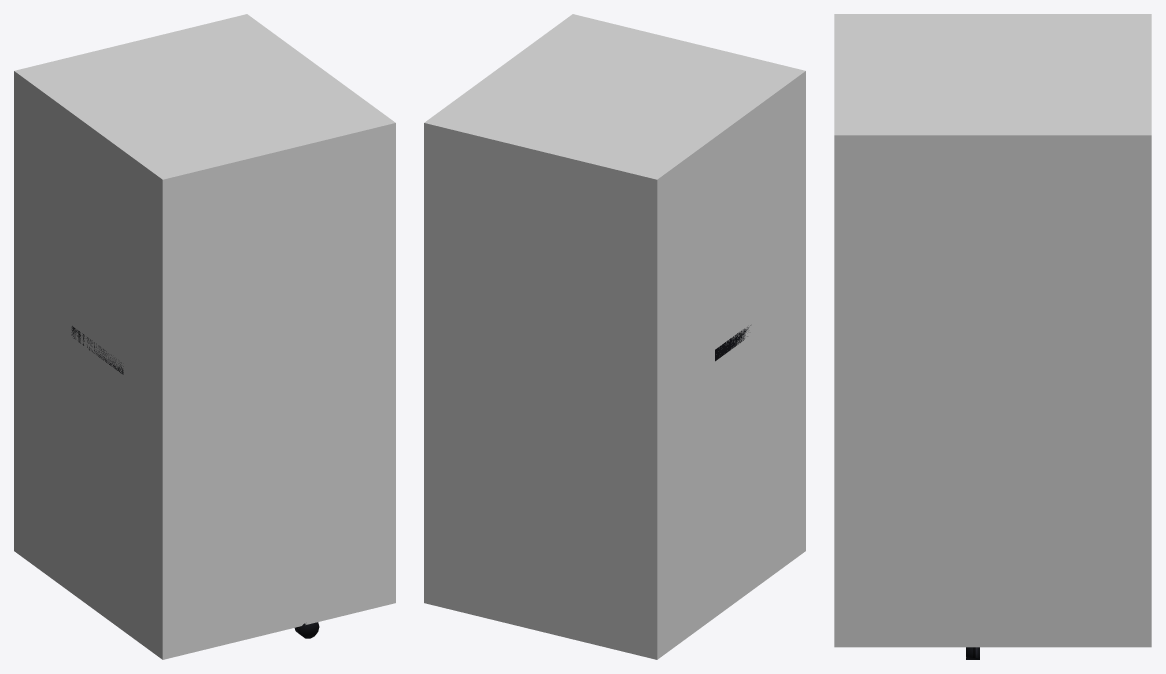
The model's file is Furn_Chair.gltf.
The picture shows the model from 3 angles, left to right: view 1: azimuth 30°, elevation 25°; view 2: azimuth 150°, elevation 25°; view 3: azimuth 270°, elevation 25°; orthographic projection. The views are drawn at different scales.
Parts seen in each view (by area): view 1: Furn_Chair_COL, Furn_Chair; view 2: Furn_Chair_COL; view 3: Furn_Chair_COL.
Part boxes in pixels (x1,y1,x2,y2): Furn_Chair_COL: [14, 14, 395, 659]; Furn_Chair: [71, 326, 319, 638]; Furn_Chair_COL: [424, 14, 805, 659]; Furn_Chair_COL: [834, 14, 1151, 647].
Size of the model in its own units: 0.625 by 1.26 by 0.6871.
Materials: 4 (1 with a texture image).
